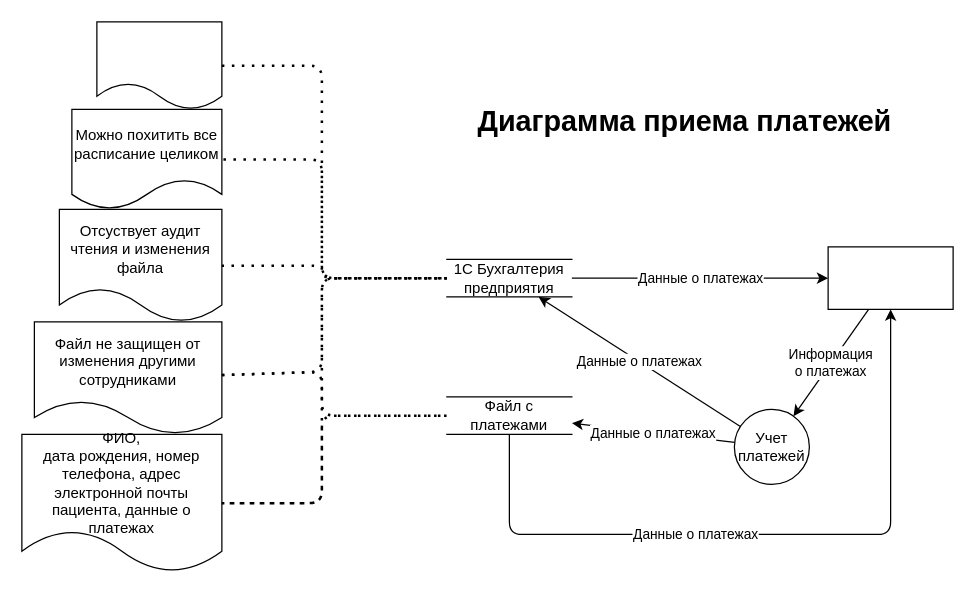
This 975x594 diagram has some shape labels left out. The shapes that lost their labels are listed below. From the top down, each one's centre as x and y in pixels, then its label:
the point at 159,65: Файл хранит перс.данные в открытом виде
the point at 890,277: Кассир
